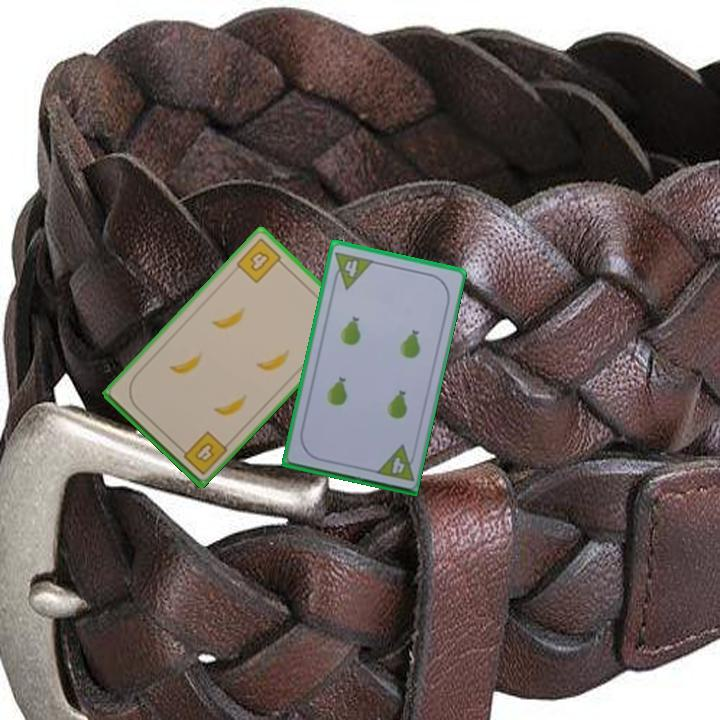4b: (232, 234, 288, 286), (175, 427, 230, 478)
4p: (328, 248, 376, 292), (371, 442, 419, 484)
